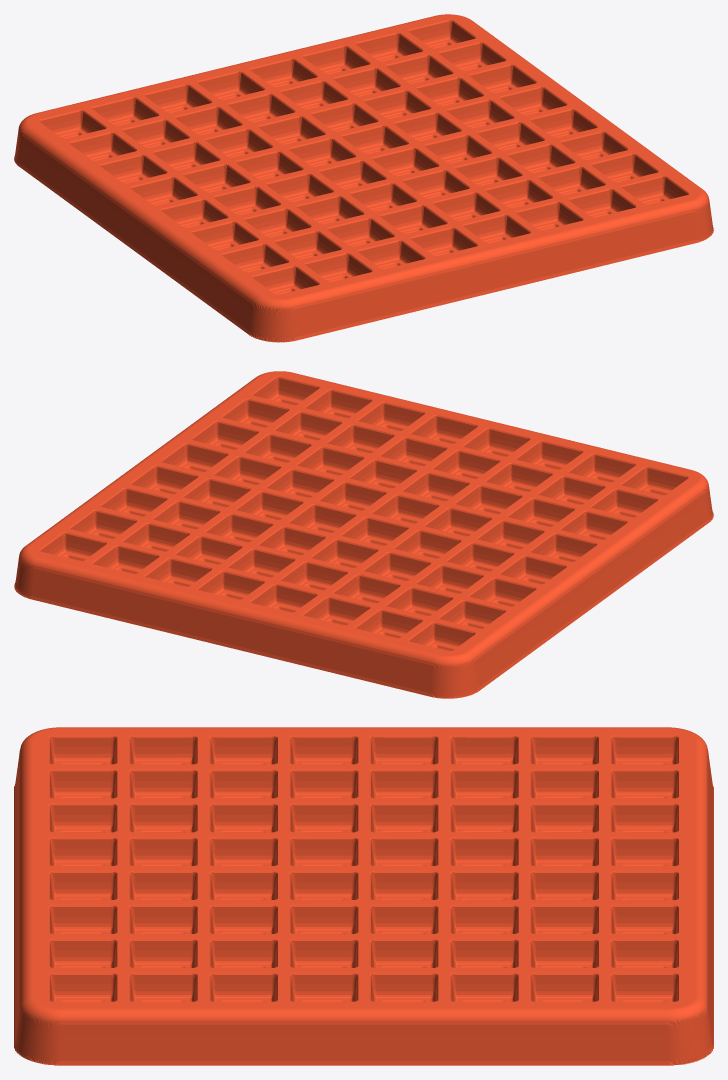
The model's file is mold.glb.
The picture shows the model from 3 angles, top to bottom: view 1: azimuth 30°, elevation 25°; view 2: azimuth 150°, elevation 25°; view 3: azimuth 270°, elevation 25°; orthographic projection. The views are drawn at different scales.
Visible parts, largest first — view 1: geometry_0; view 2: geometry_0; view 3: geometry_0.
Boxes of the visible parts, x1,y1,x2,y2 form: geometry_0: (14,14,713,342); geometry_0: (14,371,713,698); geometry_0: (14,727,713,1065).
Bounding box in the file's own units: 0.1355 × 0.0105 × 0.1355.
